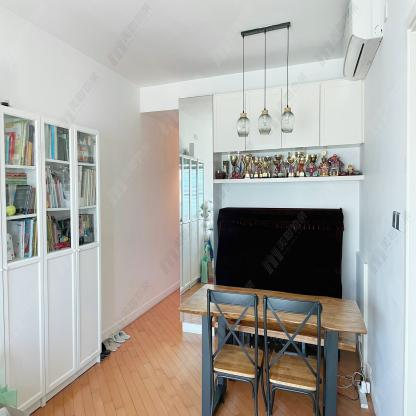Dining Table: (177, 283, 368, 416)
